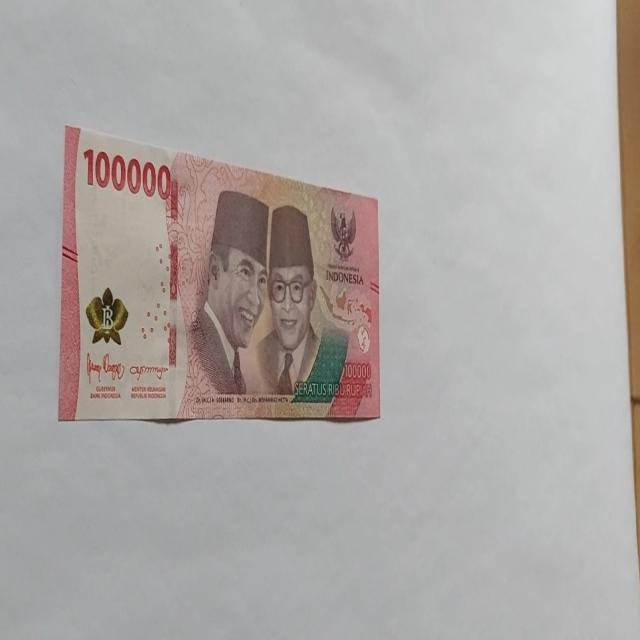seratus ribu rupiah: (58, 124, 381, 424)
